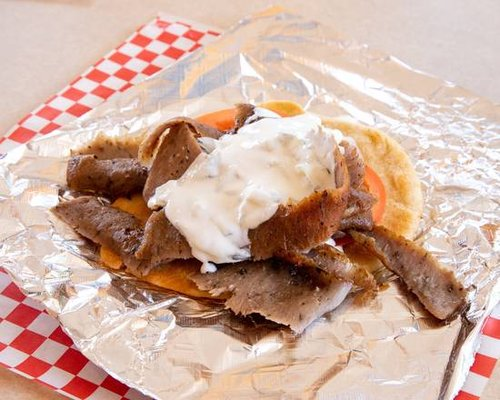soup: (34, 100, 463, 340)
